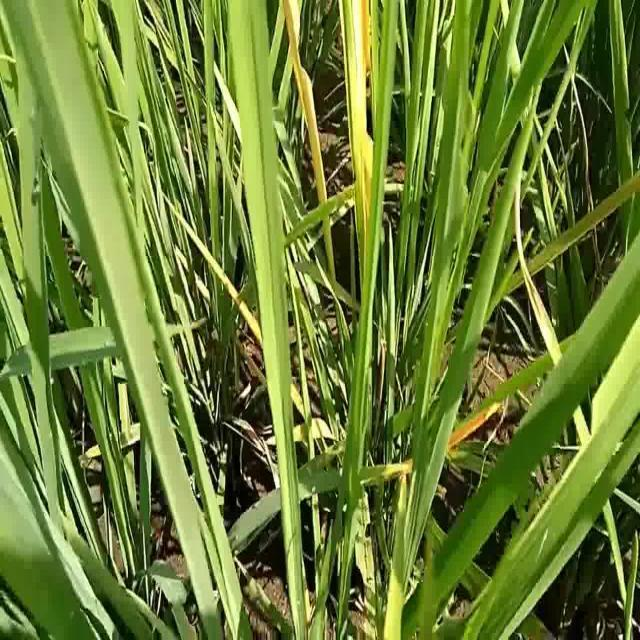Rice Tungro: (281, 3, 341, 197), (338, 3, 379, 226)
